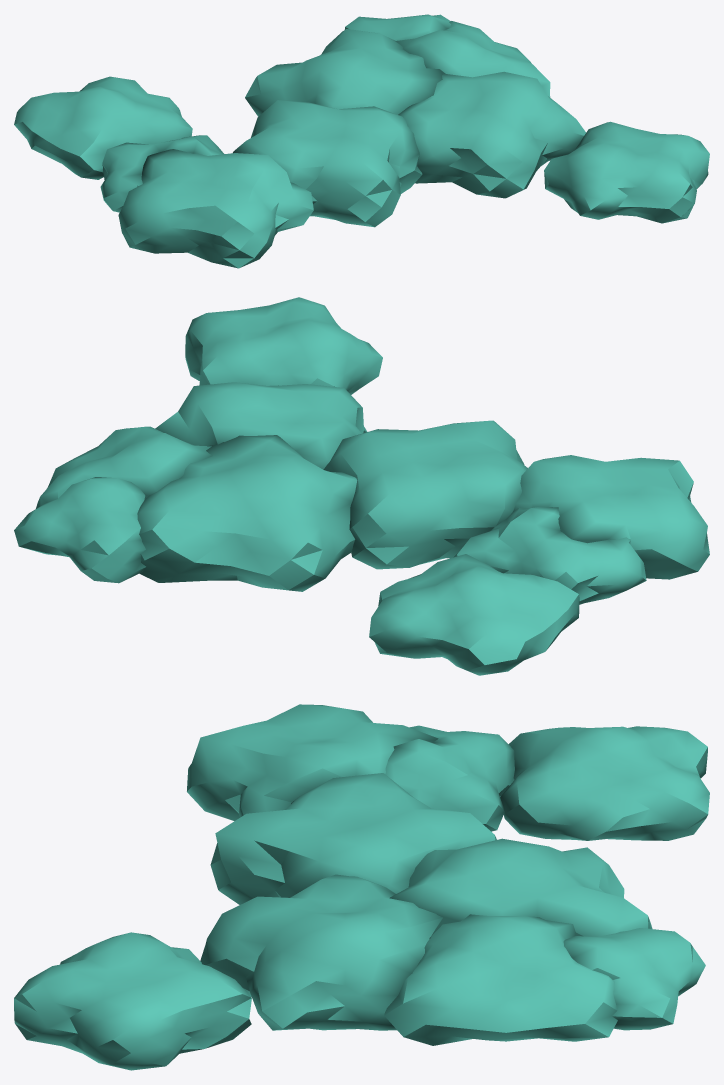
File: mould.glb
3 renders of one model, top to bottom at view 1: azimuth 30°, elevation 25°; view 2: azimuth 150°, elevation 25°; view 3: azimuth 270°, elevation 25°, orthographic. The views are drawn at different scales.
Parts seen in each view (by area): view 1: boat_mould; view 2: boat_mould; view 3: boat_mould.
Boxes of the visible parts, x1,y1,x2,y2 form: boat_mould: (14, 14, 709, 268); boat_mould: (14, 297, 709, 675); boat_mould: (14, 704, 709, 1070).
Size of the model in its own units: 1.24 by 0.1687 by 1.12.
